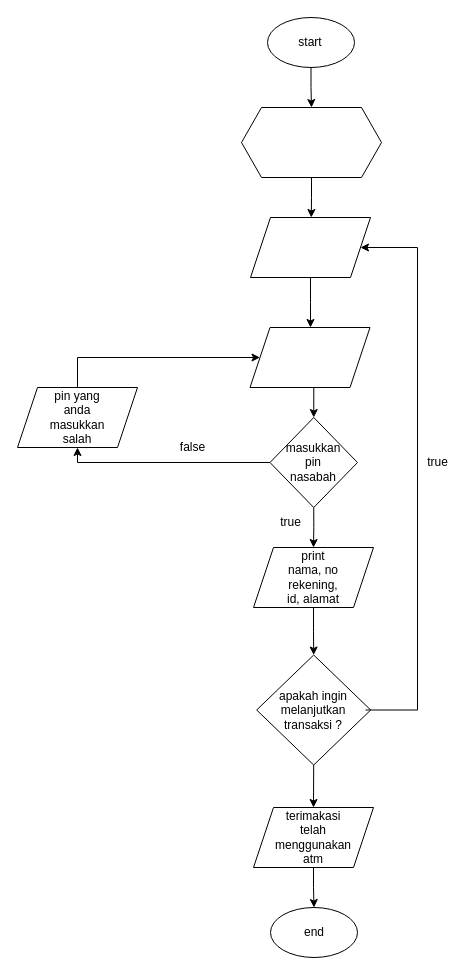
This 475x975 diagram has some shape labels left out. Each missing label, with the box of its shape:
int menu, pinNasabah, id, no rek string nama, alamat: (240, 106, 382, 178)
menu: (250, 216, 370, 278)
menu = data nasabah: (249, 326, 370, 388)
